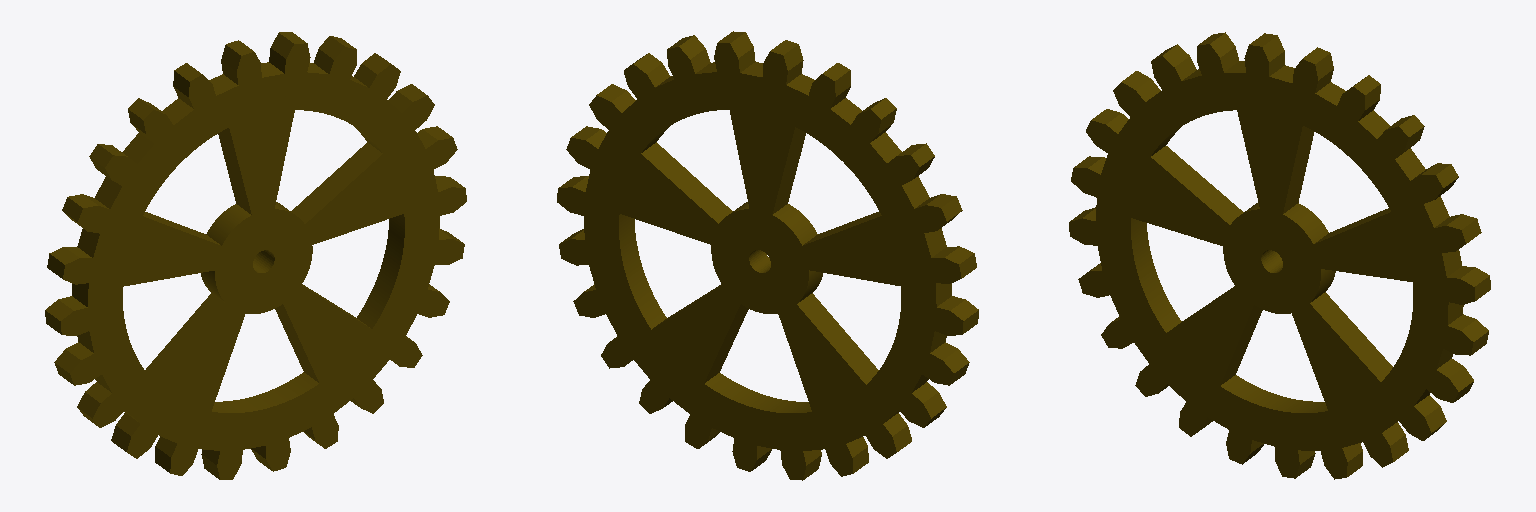
Rendered from gear9.obj.
The picture shows the model from 3 angles: view 1: azimuth 30°, elevation 25°; view 2: azimuth 150°, elevation 25°; view 3: azimuth 330°, elevation 25°; orthographic projection.
Visible parts, largest first — view 1: Cogwheels-Driveunit.003; view 2: Cogwheels-Driveunit.003; view 3: Cogwheels-Driveunit.003.
Boxes of the visible parts, box(x1,y1,x2,y2) form: Cogwheels-Driveunit.003: box(45, 32, 466, 479); Cogwheels-Driveunit.003: box(557, 31, 978, 480); Cogwheels-Driveunit.003: box(1069, 32, 1490, 479).
Size of the model in its own units: 1.36 by 1.36 by 0.0948.